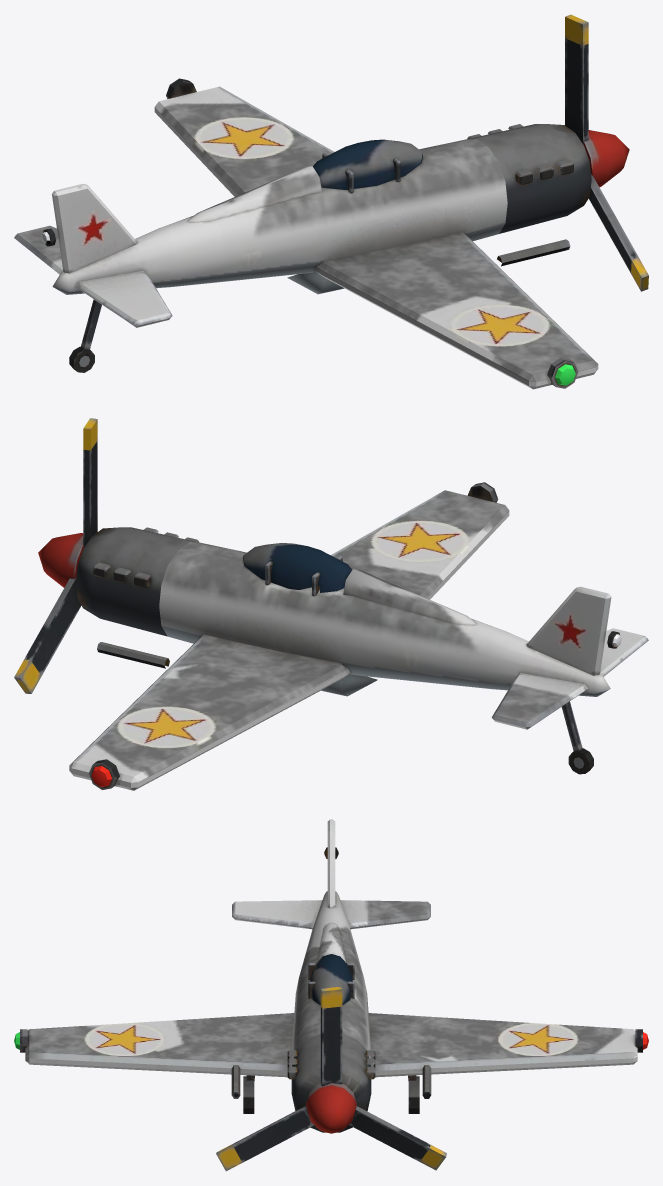
Rendered from yak.soviet.glb.
3 renders of one model, top to bottom at view 1: azimuth 30°, elevation 25°; view 2: azimuth 150°, elevation 25°; view 3: azimuth 270°, elevation 25°, orthographic. The views are drawn at different scales.
Visible parts, largest first — view 1: root_mesh, prop_mesh; view 2: root_mesh, prop_mesh; view 3: root_mesh, prop_mesh.
Part boxes in pixels (x1,y1,x2,y2): root_mesh: (14, 78, 598, 389); prop_mesh: (565, 14, 648, 291); root_mesh: (69, 482, 648, 790); prop_mesh: (14, 418, 97, 693); root_mesh: (14, 819, 648, 1132); prop_mesh: (216, 986, 446, 1171).
Size of the model in its own units: 0.6878 by 0.26 by 0.7989.
Materials: 1 (1 with a texture image).
